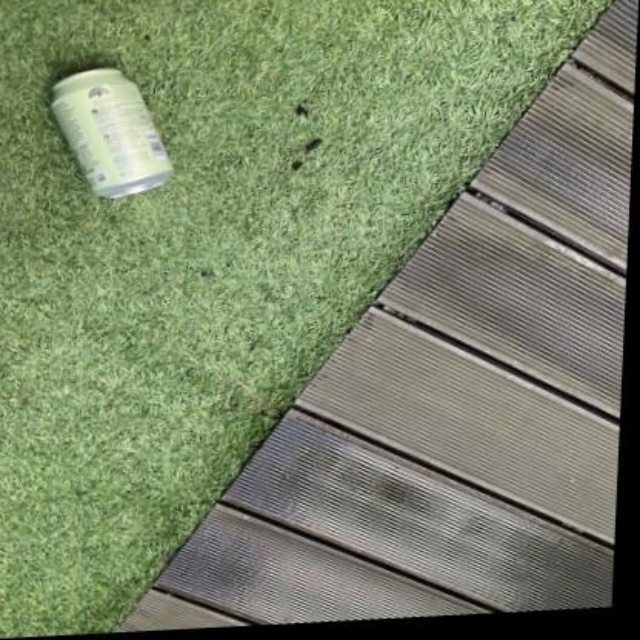trash: (52, 69, 171, 197)
